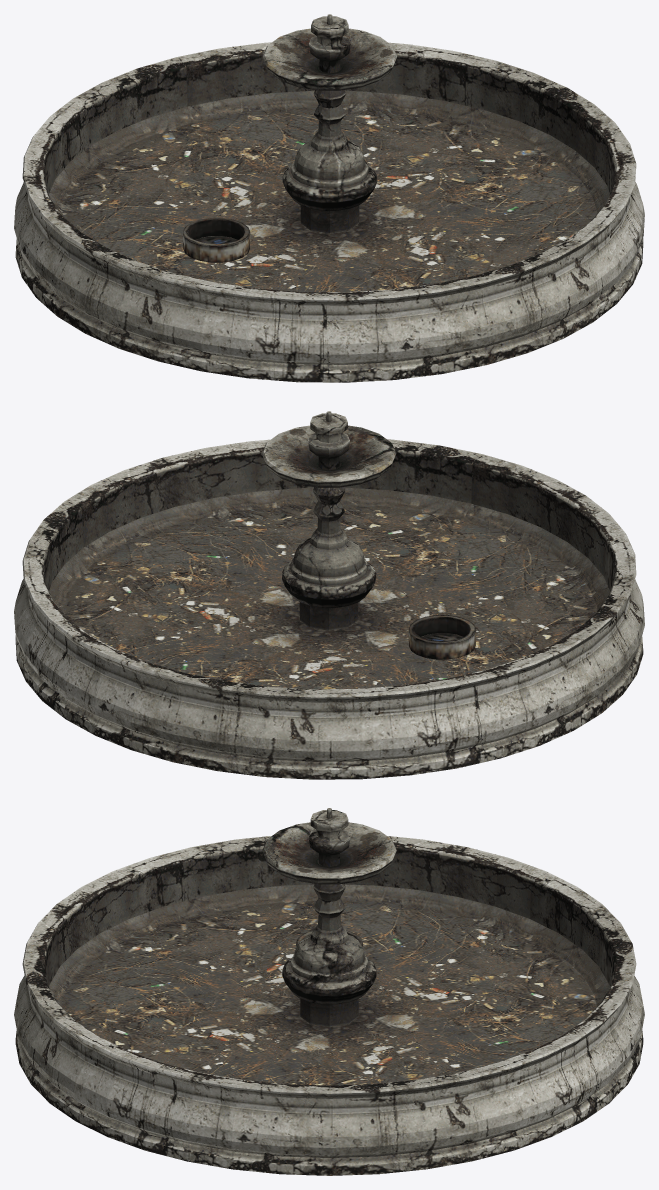
The model's file is S0Q6EI47OZP9JHYXGLSTS1ACW.fbx.
3 renders of one model, top to bottom at view 1: azimuth 30°, elevation 25°; view 2: azimuth 150°, elevation 25°; view 3: azimuth 270°, elevation 25°, orthographic.
Parts seen in each view (by area): view 1: Object_0_fountain_d.bmp; view 2: Object_0_fountain_d.bmp; view 3: Object_0_fountain_d.bmp.
Part boxes in pixels (x1=…): Object_0_fountain_d.bmp: x1=14, y1=14, x2=644, y2=382; Object_0_fountain_d.bmp: x1=14, y1=411, x2=644, y2=779; Object_0_fountain_d.bmp: x1=14, y1=808, x2=644, y2=1175.
Bounding box in the file's own units: 2.5 × 1.02 × 2.5.
1 material, 1 textured.
